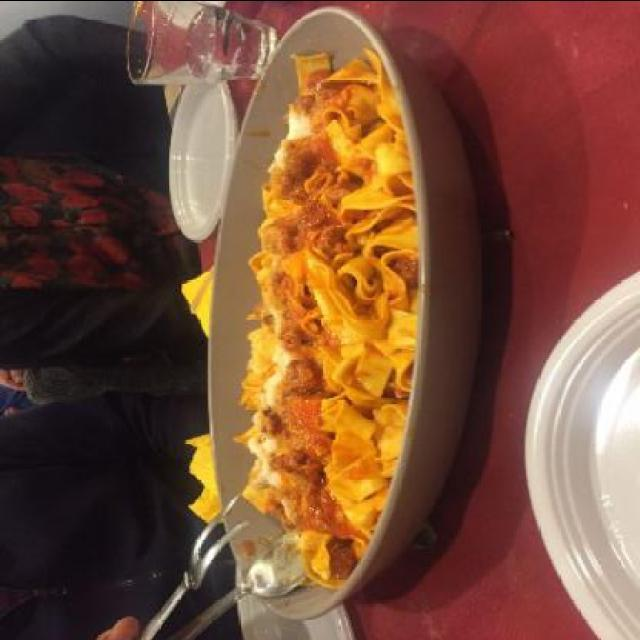Pasta al ragu: (184, 20, 522, 608)
